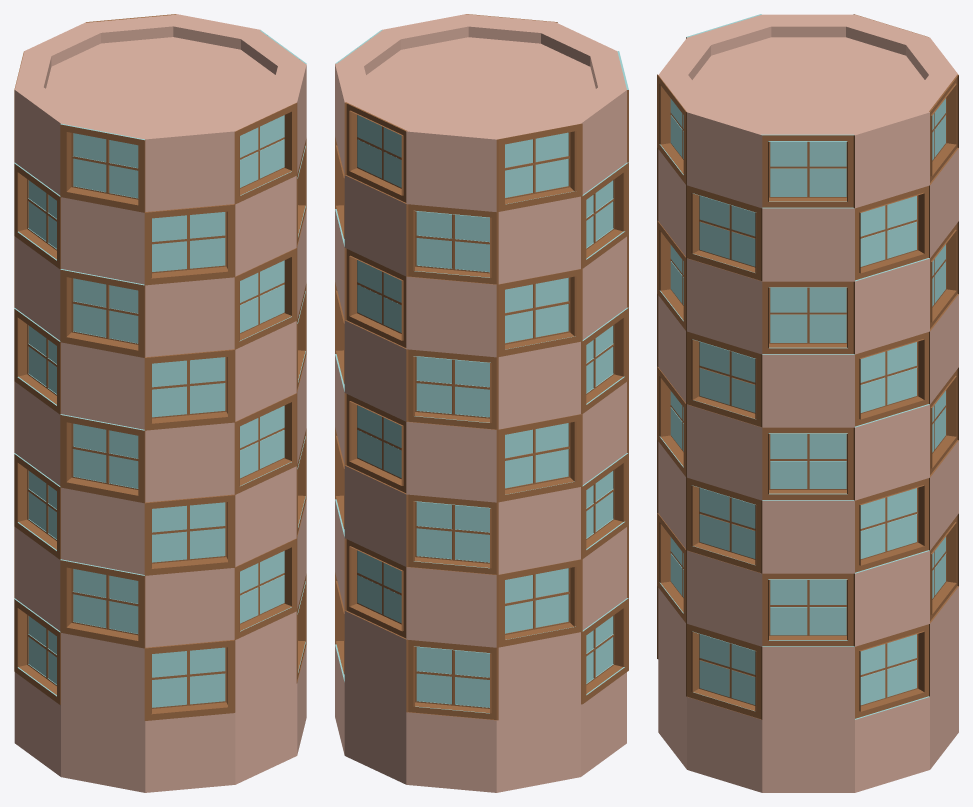
The model's file is Circle White.fbx.
3 renders of one model, left to right at view 1: azimuth 30°, elevation 25°; view 2: azimuth 150°, elevation 25°; view 3: azimuth 270°, elevation 25°, orthographic.
Parts seen in each view (by area): view 1: Cylinder; view 2: Cylinder; view 3: Cylinder.
Part boxes in pixels (bbox=[...]): Cylinder: bbox=[14, 14, 306, 792]; Cylinder: bbox=[335, 14, 628, 792]; Cylinder: bbox=[657, 14, 958, 792].
Size of the model in its own units: 1689 by 4266 by 1774.
